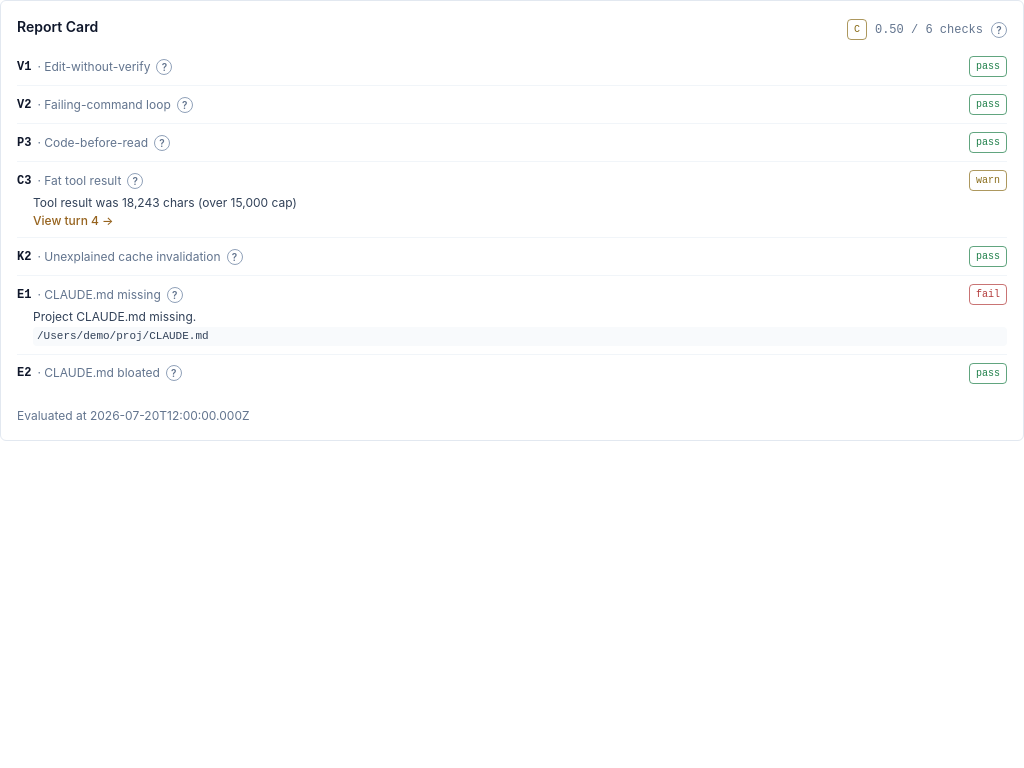
Test: ReportCardView › opens the score's info modal explaining the formula and letter bands
Click the button named "What does this score mean?".
click(999, 30)  # box [991,22,1007,38]
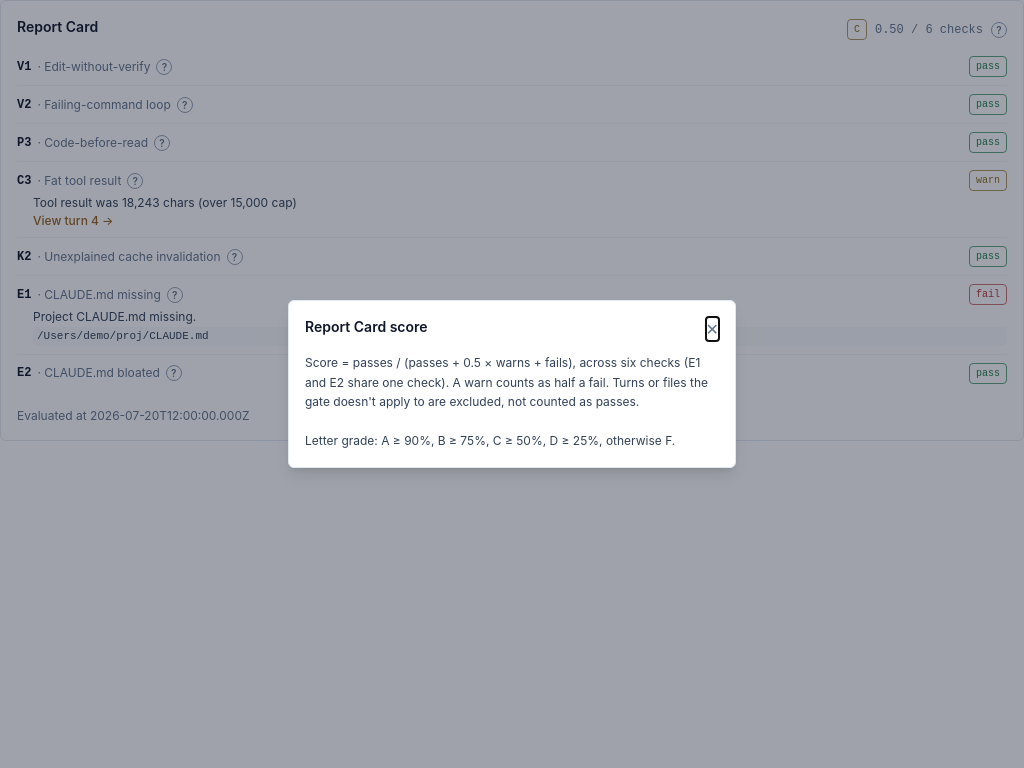
Expected: the text "passes / (passes" is shown, [305,355,708,448]
